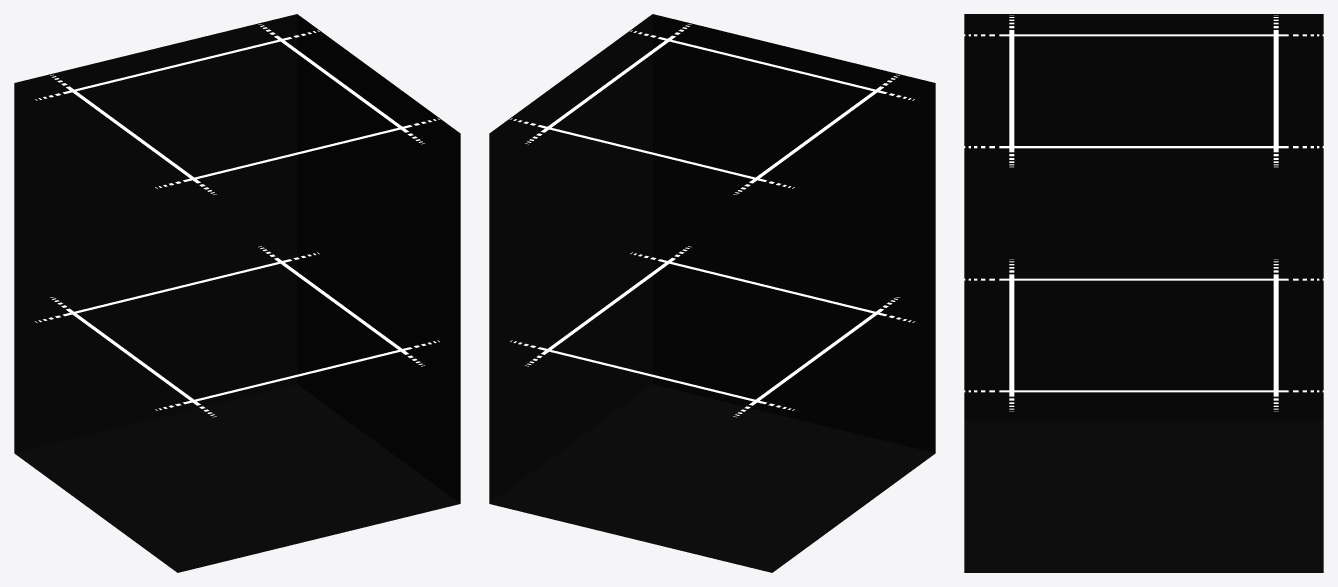
The model's file is cansy_cube_2.glb.
3 renders of one model, left to right at view 1: azimuth 30°, elevation 25°; view 2: azimuth 150°, elevation 25°; view 3: azimuth 270°, elevation 25°, orthographic. The views are drawn at different scales.
Visible parts, largest first — view 1: Background, Cube.002; view 2: Background, Cube.002; view 3: Background, Cube.002.
Part boxes in pixels (x1,y1,x2,y2): Background: (14,14,460,572); Cube.002: (35,24,439,417); Background: (489,14,935,572); Cube.002: (510,24,914,417); Background: (964,14,1323,572); Cube.002: (964,15,1323,411).
Size of what is drawn, in the model's own units: 16 by 20 by 16.
Materials: 2 (2 with a texture image).
